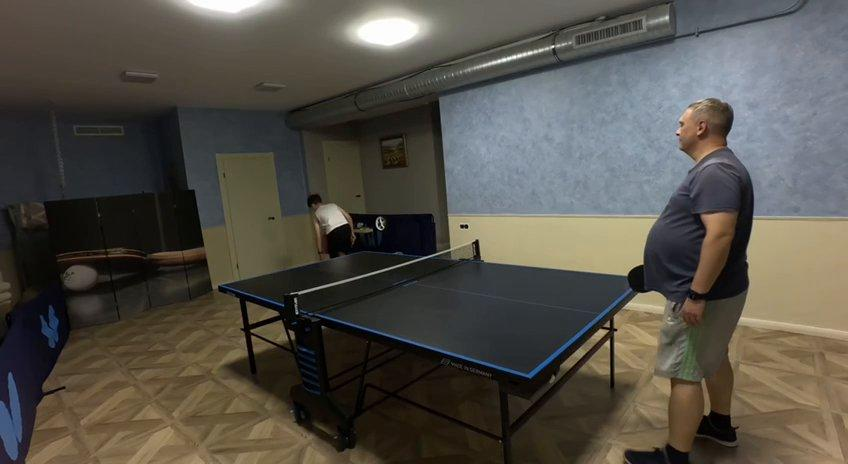Net: (285, 240, 482, 326)
Player1: (307, 194, 354, 257)
Player2: (624, 98, 753, 463)
Table: (221, 254, 630, 377)
